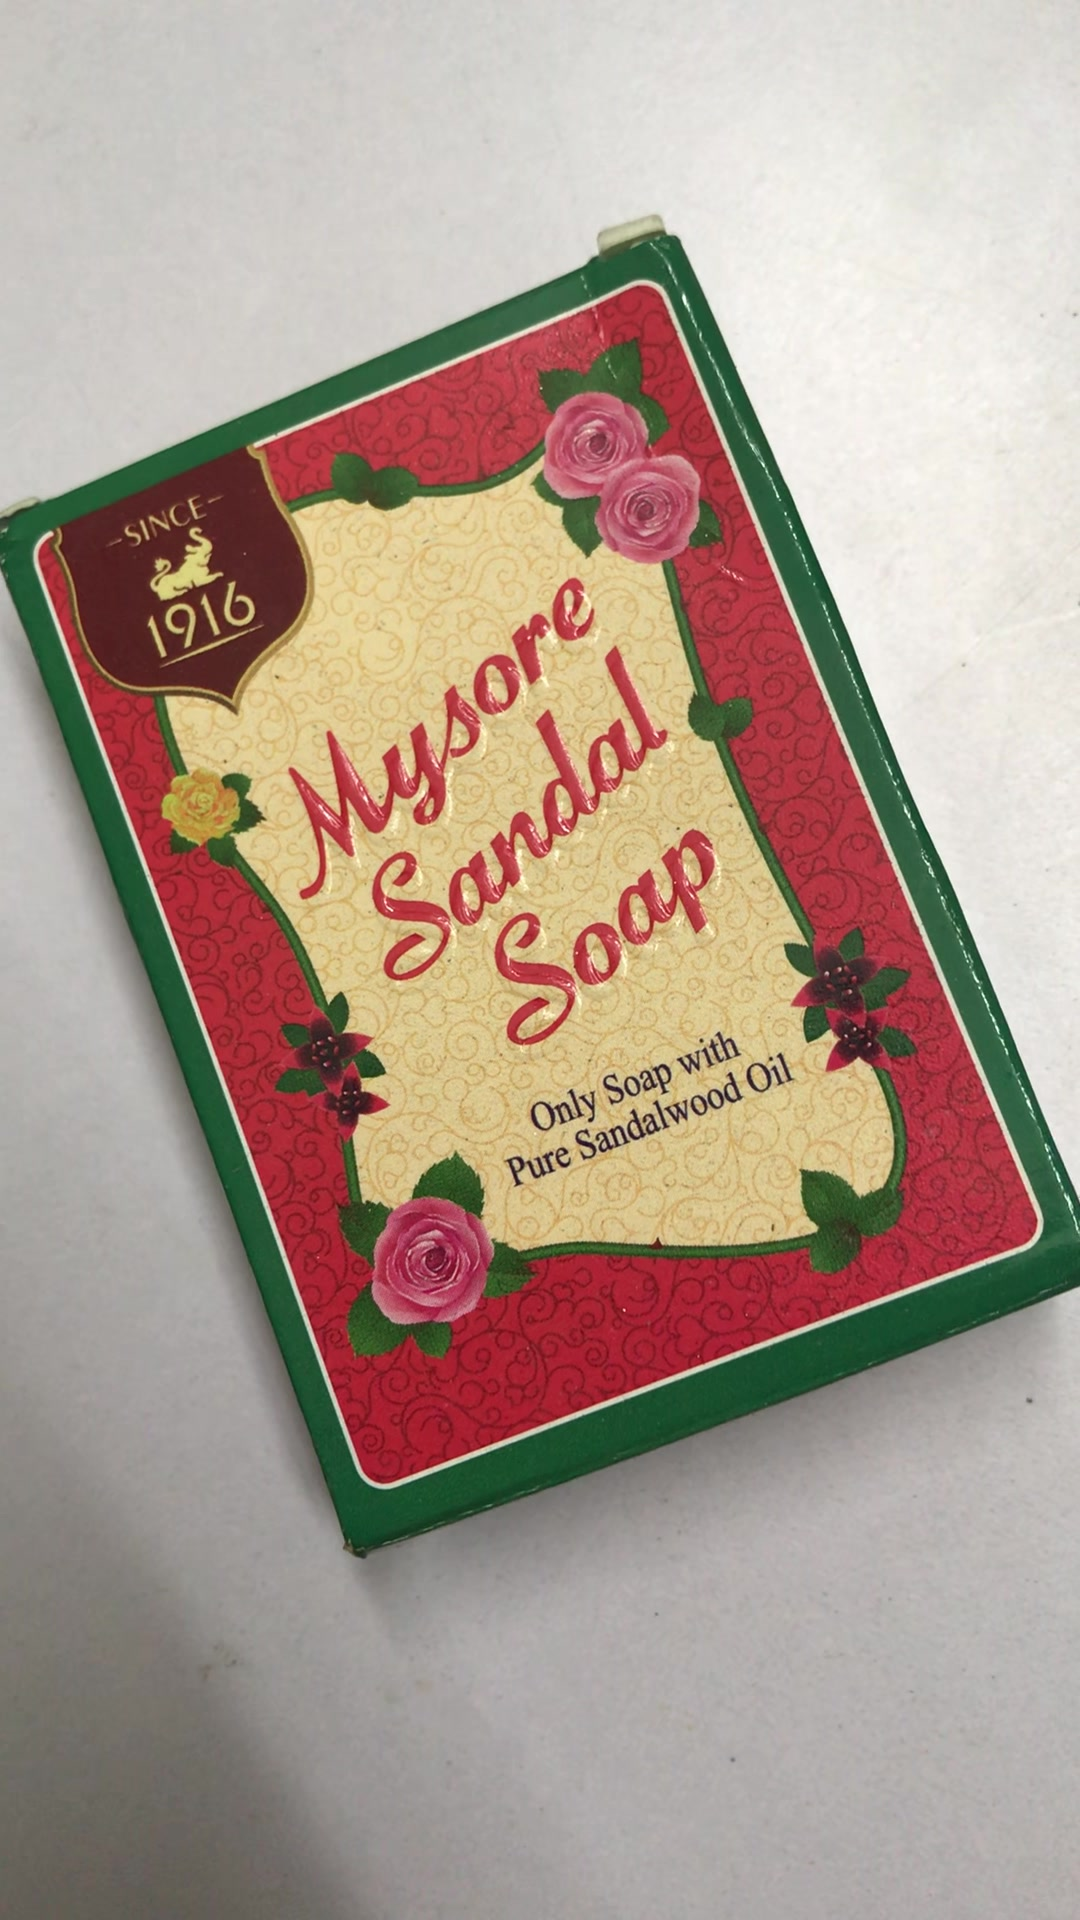mysore sandal soap: (5, 223, 1080, 1557)
